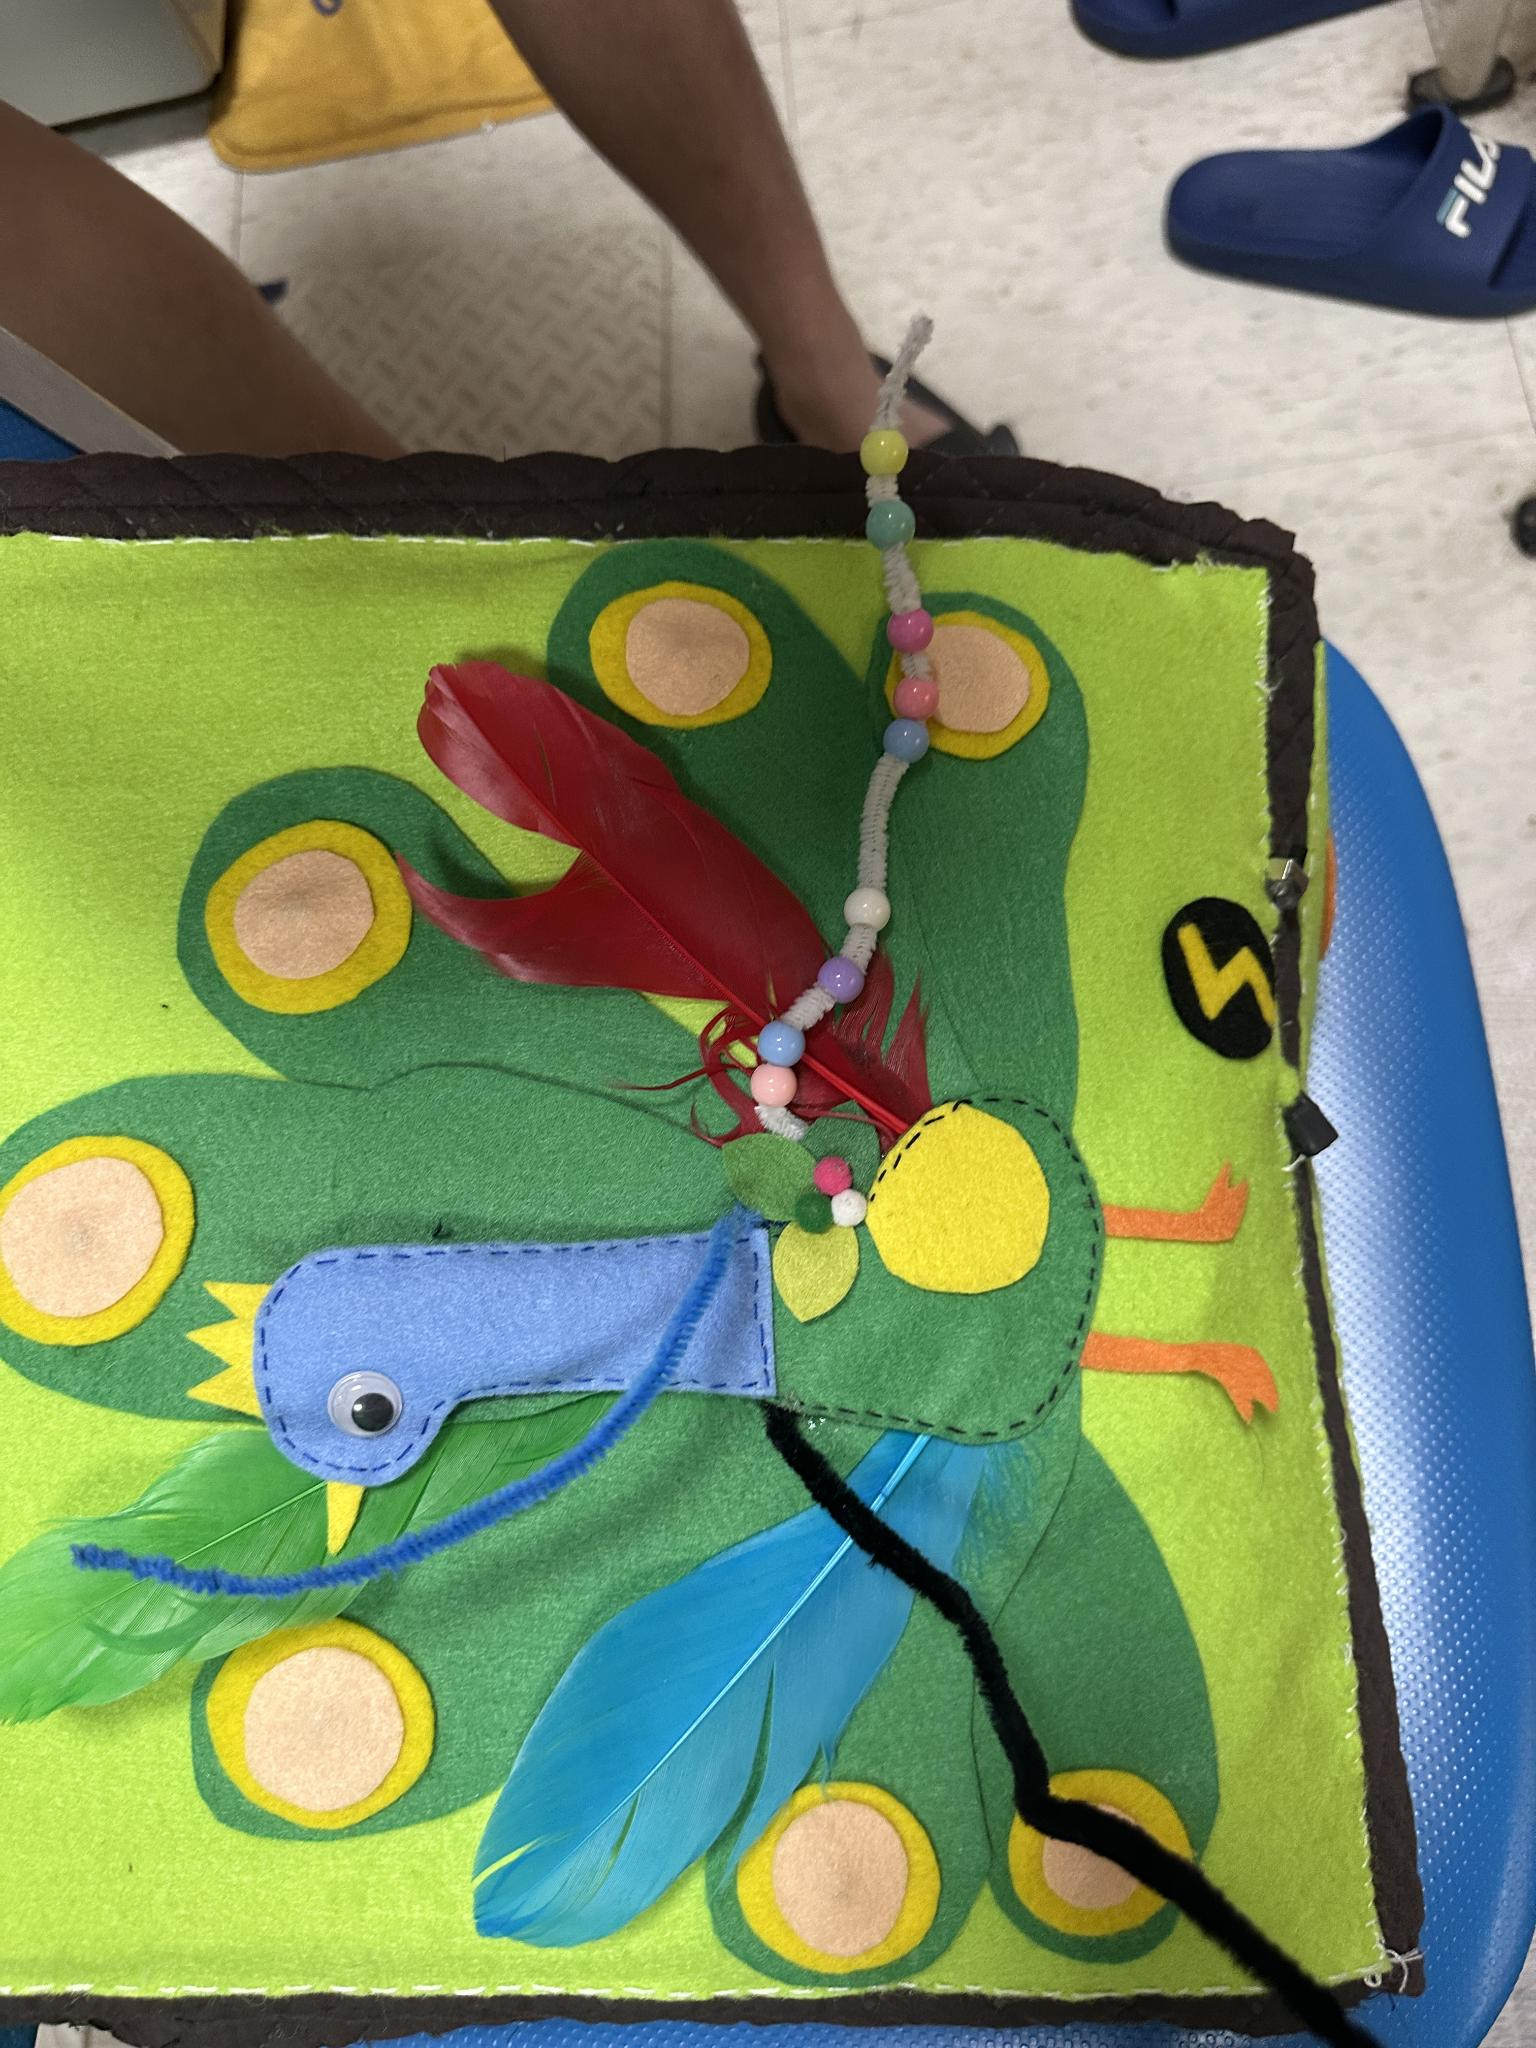bead: (854, 497, 945, 558), (836, 868, 900, 947), (854, 414, 920, 484), (876, 598, 949, 661), (728, 1059, 816, 1109), (868, 713, 936, 771), (813, 947, 871, 1005), (752, 1013, 807, 1061), (892, 674, 942, 718)
